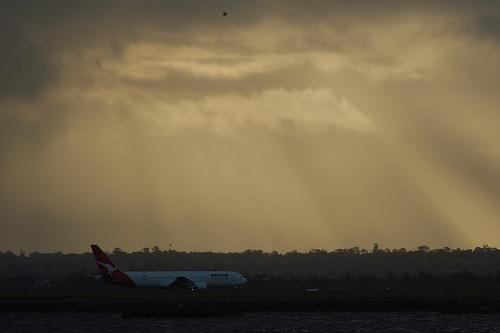aeroplane: (88, 243, 249, 302)
